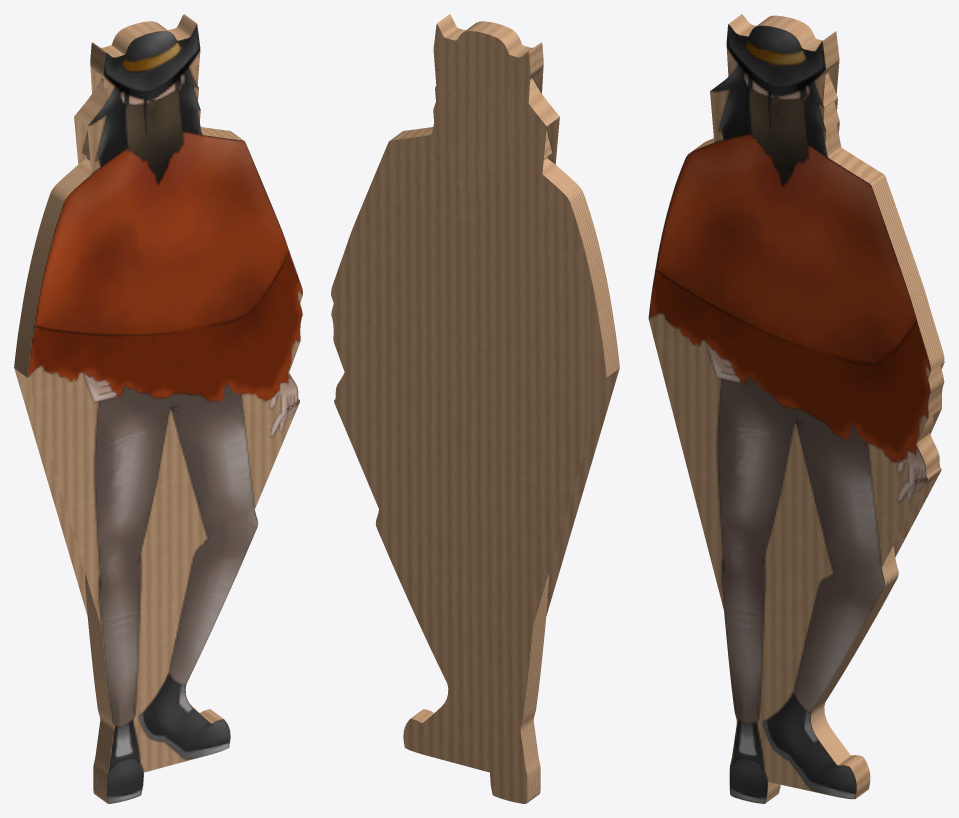
The model's file is outlaw.fbx.
3 renders of one model, left to right at view 1: azimuth 30°, elevation 25°; view 2: azimuth 150°, elevation 25°; view 3: azimuth 330°, elevation 25°, orthographic. The views are drawn at different scales.
Visible parts, largest first — view 1: svgMesh1; view 2: svgMesh1; view 3: svgMesh1.
Boxes of the visible parts, box(x1,y1,x2,y2) form: svgMesh1: box(14, 14, 302, 803); svgMesh1: box(331, 14, 619, 803); svgMesh1: box(648, 14, 944, 803).
Bounding box in the file's own units: 7.51 × 19.83 × 0.6231.
1 material, 1 textured.
